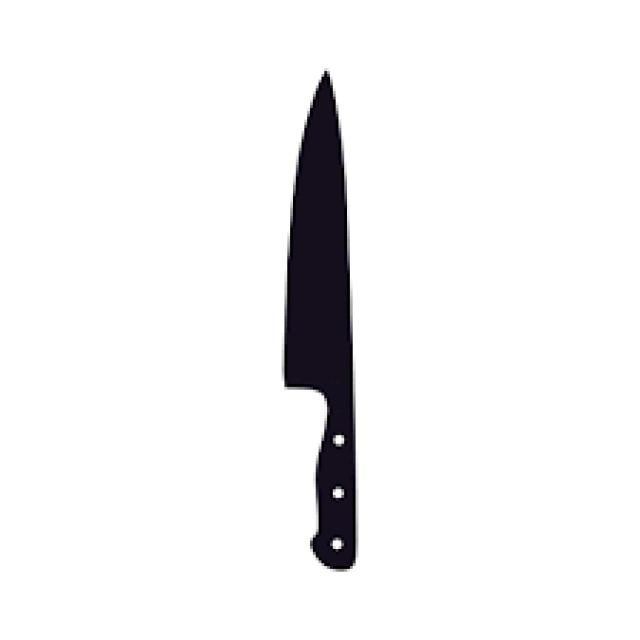Knife: (282, 68, 356, 569)
